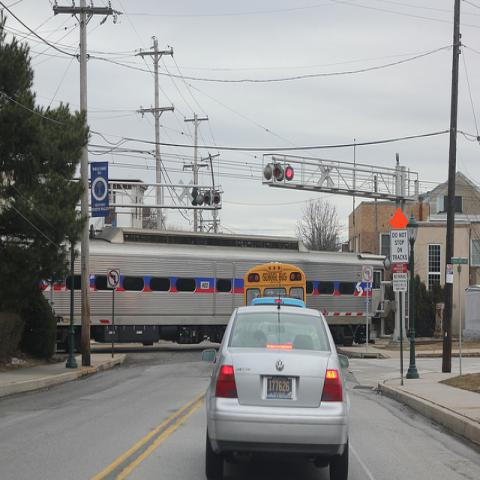bus: (243, 263, 306, 306)
car: (202, 302, 351, 473), (250, 297, 306, 308)
